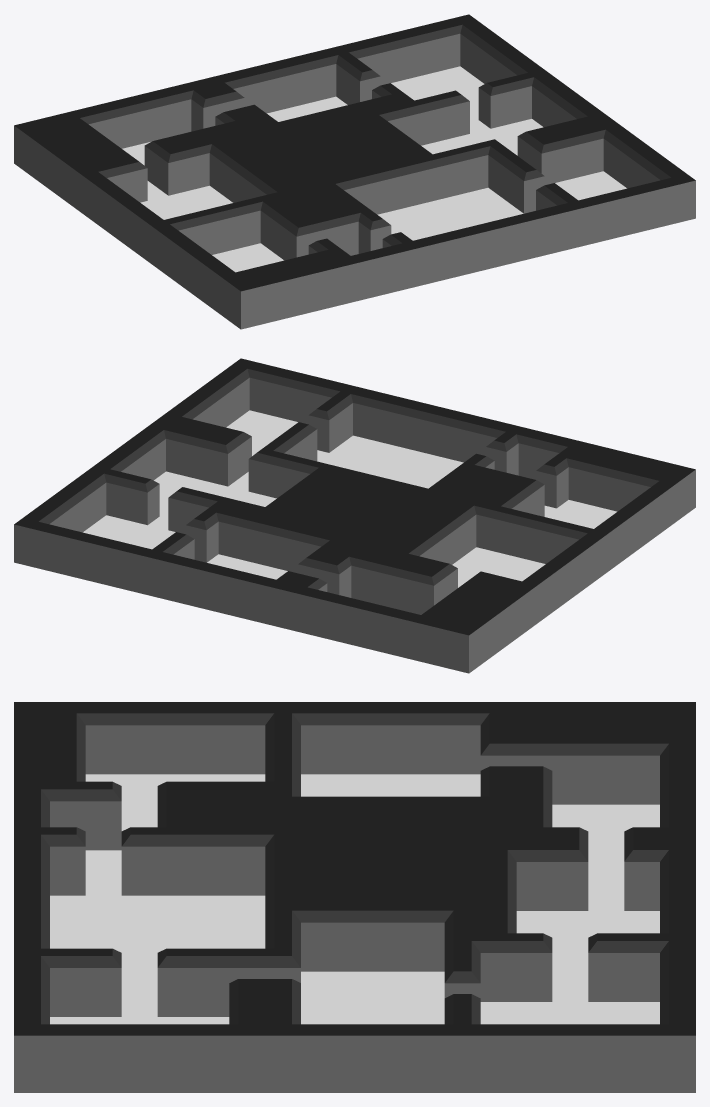
Rendered from lv5Adult.fbx.
3 renders of one model, top to bottom at view 1: azimuth 30°, elevation 25°; view 2: azimuth 150°, elevation 25°; view 3: azimuth 270°, elevation 25°, orthographic. The views are drawn at different scales.
Parts seen in each view (by area): view 1: lvl5Adult; view 2: lvl5Adult; view 3: lvl5Adult.
Boxes of the visible parts, x1,y1,x2,y2 form: lvl5Adult: [14, 14, 695, 329]; lvl5Adult: [14, 358, 695, 673]; lvl5Adult: [14, 702, 695, 1092].
Bounding box in the file's own units: 3050 × 244 × 2634.
